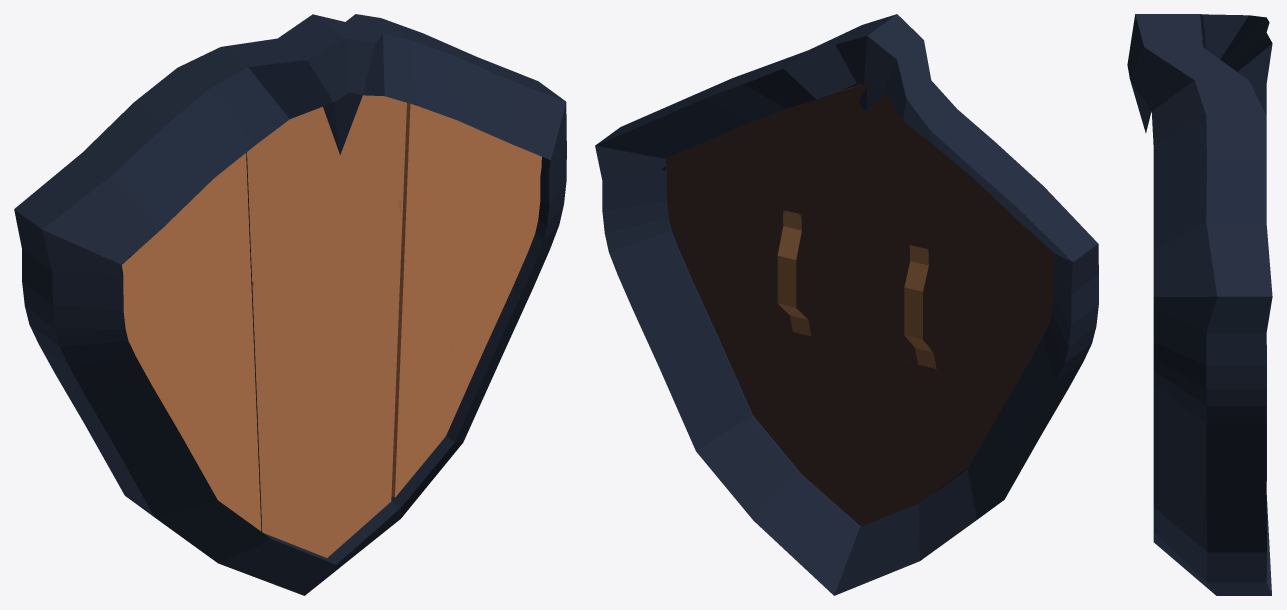
File: Escudo de Madera.fbx
3 views of the same model, side by side, from view 1: azimuth 30°, elevation 25°; view 2: azimuth 150°, elevation 25°; view 3: azimuth 270°, elevation 25° (orthographic). The views are drawn at different scales.
Visible parts, largest first — view 1: Plano; view 2: Plano; view 3: Plano.
Boxes of the visible parts, left/top/right/bottom form: Plano: left=14, top=14, right=566, bottom=595; Plano: left=595, top=14, right=1098, bottom=595; Plano: left=1127, top=14, right=1272, bottom=595.
Bounding box in the file's own units: 92.43 × 99 × 22.38.
